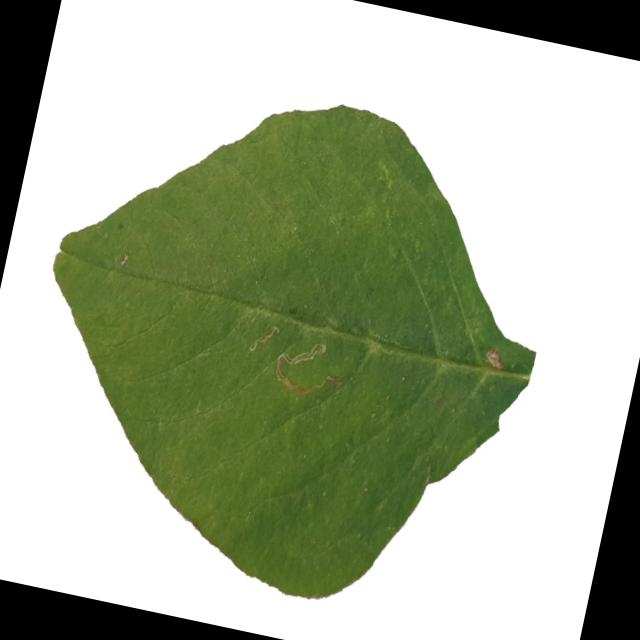Medicinal-Arive Dantu: (0, 54, 578, 634)
